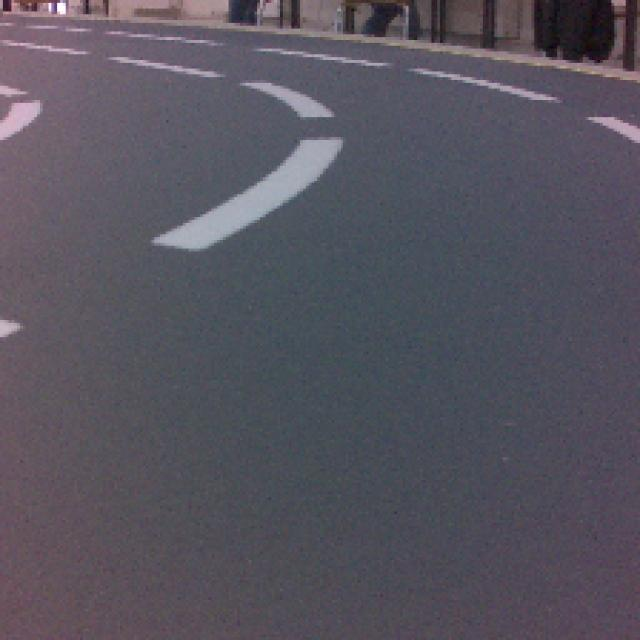Road: (0, 350, 640, 637)
